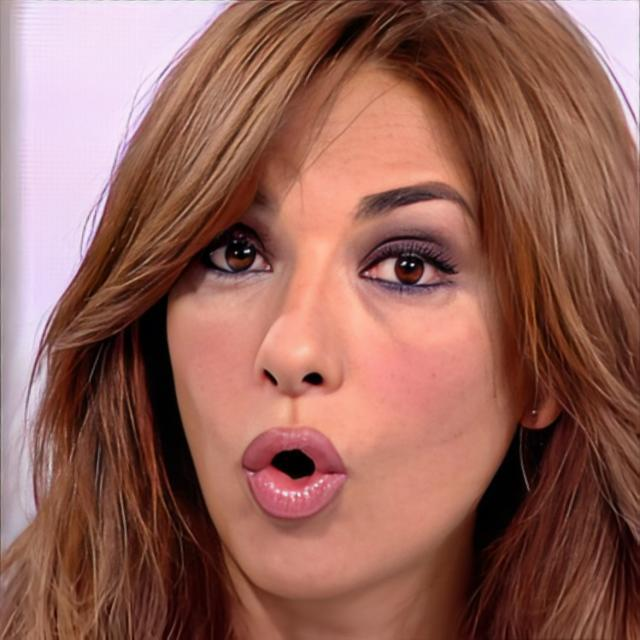surprise: (163, 50, 532, 602)
